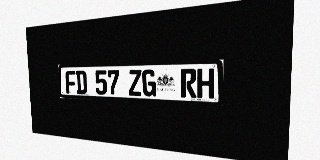5: (95, 70, 107, 95)
7: (107, 70, 120, 95)
D: (76, 71, 87, 94)
F: (65, 71, 76, 94)
G: (142, 69, 156, 97)
H: (197, 68, 214, 99)
R: (180, 69, 196, 98)
Z: (128, 70, 142, 96)
